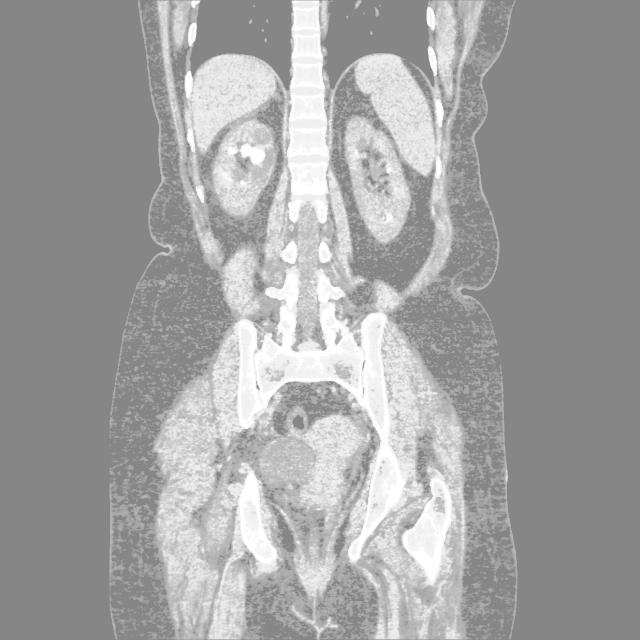STONE: (195, 111, 415, 244)
